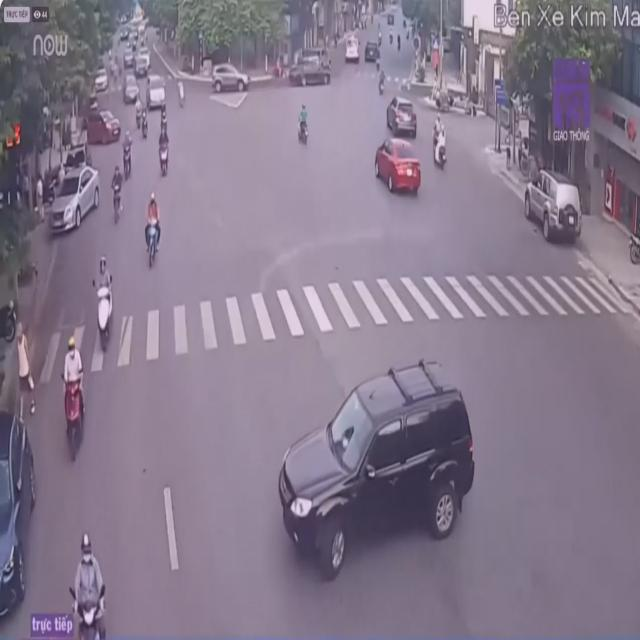car: (277, 363, 483, 586), (0, 408, 38, 622), (523, 169, 581, 245), (49, 167, 100, 228), (376, 138, 424, 200), (385, 97, 417, 141), (211, 59, 248, 92)
motorbike: (62, 531, 110, 638), (58, 329, 90, 464), (89, 255, 115, 354), (142, 196, 162, 273), (432, 118, 448, 172), (110, 165, 124, 221), (294, 100, 310, 148), (158, 128, 172, 176), (122, 132, 132, 176)
